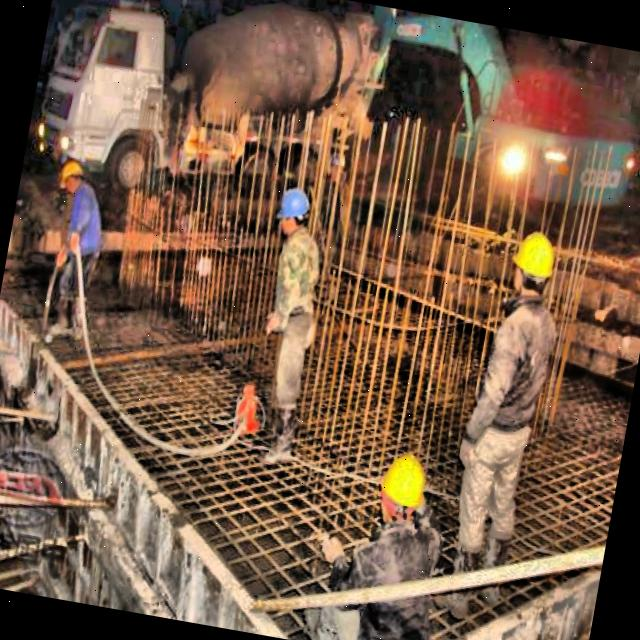helmet: (371, 444, 433, 534), (504, 224, 560, 305), (277, 183, 317, 239), (55, 156, 87, 198)
